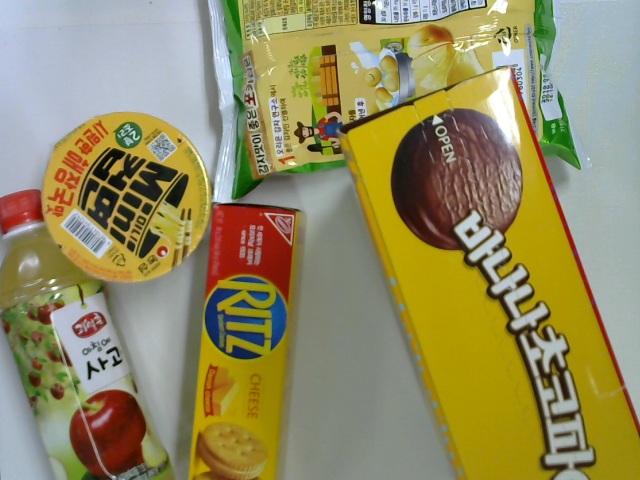Choco_Pie_Banana: (341, 65, 640, 480)
Hejangmini: (41, 109, 215, 287)
Morning_Apple_500ml: (1, 184, 177, 480)
Pocachip_Onion: (207, 1, 594, 206)
Ritz_Sand_Cracker: (186, 202, 311, 480)
